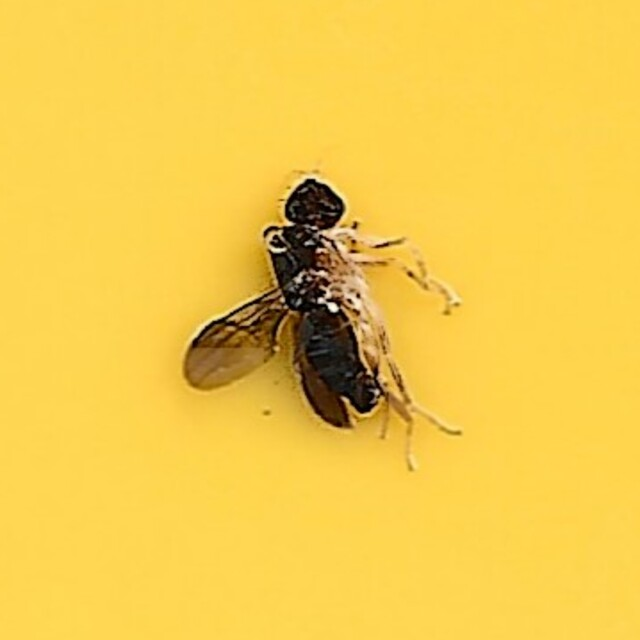Brachycera: (178, 169, 462, 471)
